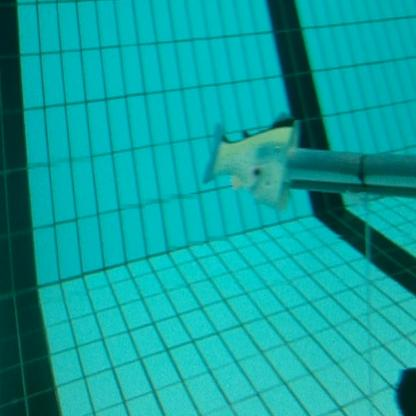tail: (200, 109, 302, 214)
